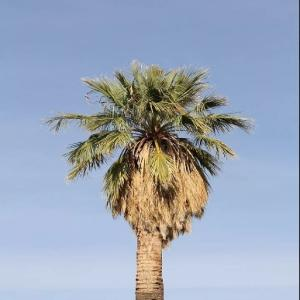palm tree: (40, 58, 257, 299)
